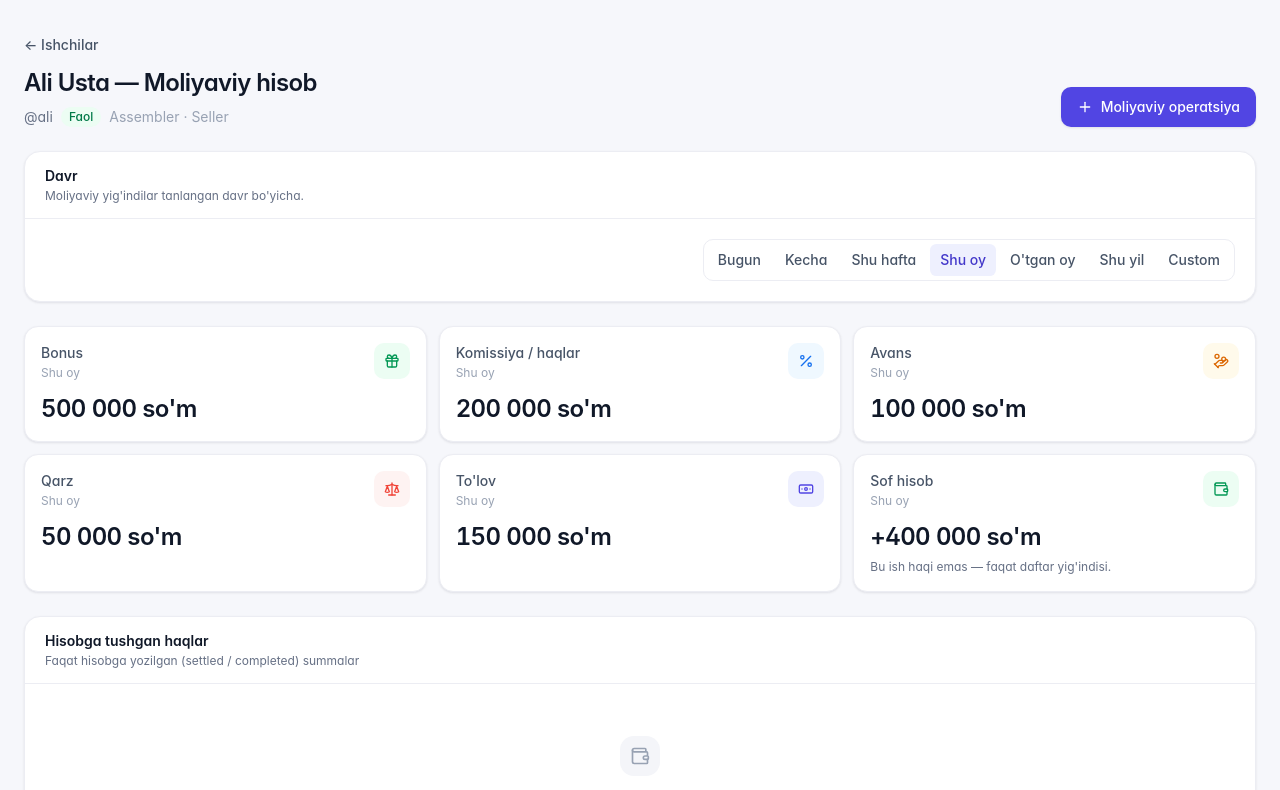
Test case: WorkerFinancesPage › rejects negative amount
The width and height of the screenshot is (1280, 790).
Click the button "Moliyaviy operatsiya".
click(1158, 107)  # box x1=1061 y1=87 x2=1256 y2=127
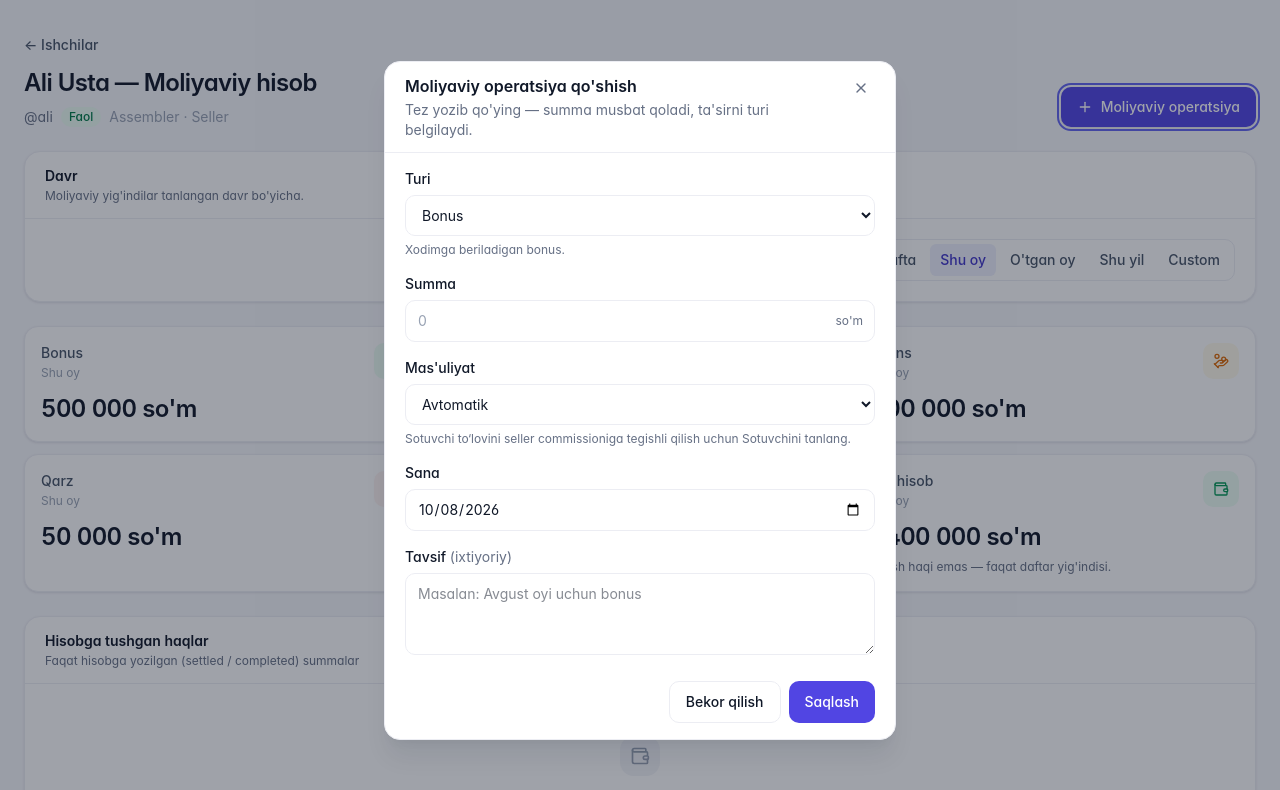
Type "-500" into the field labelled "Summa".
click(640, 320); type("-500")  # box x1=405 y1=300 x2=875 y2=342
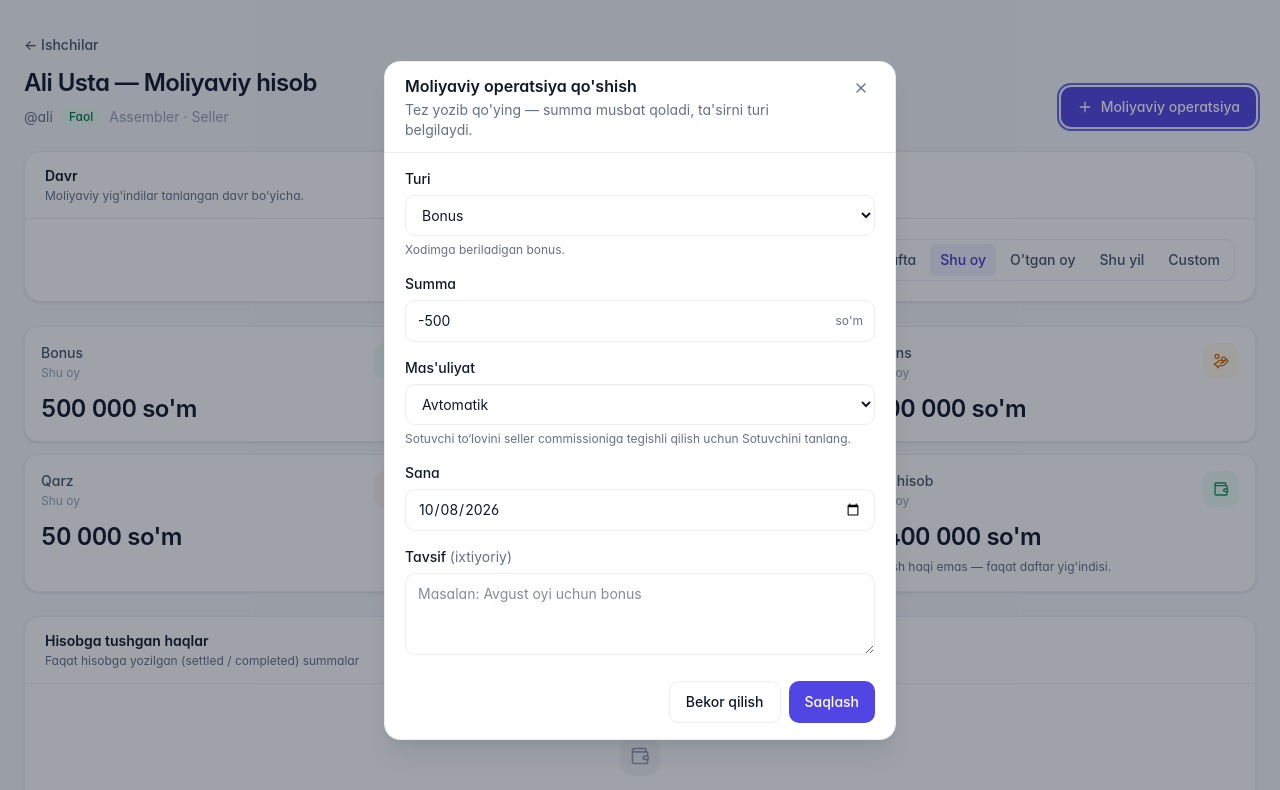
Click the button "Saqlash".
click(832, 702)  # box x1=788 y1=680 x2=875 y2=722
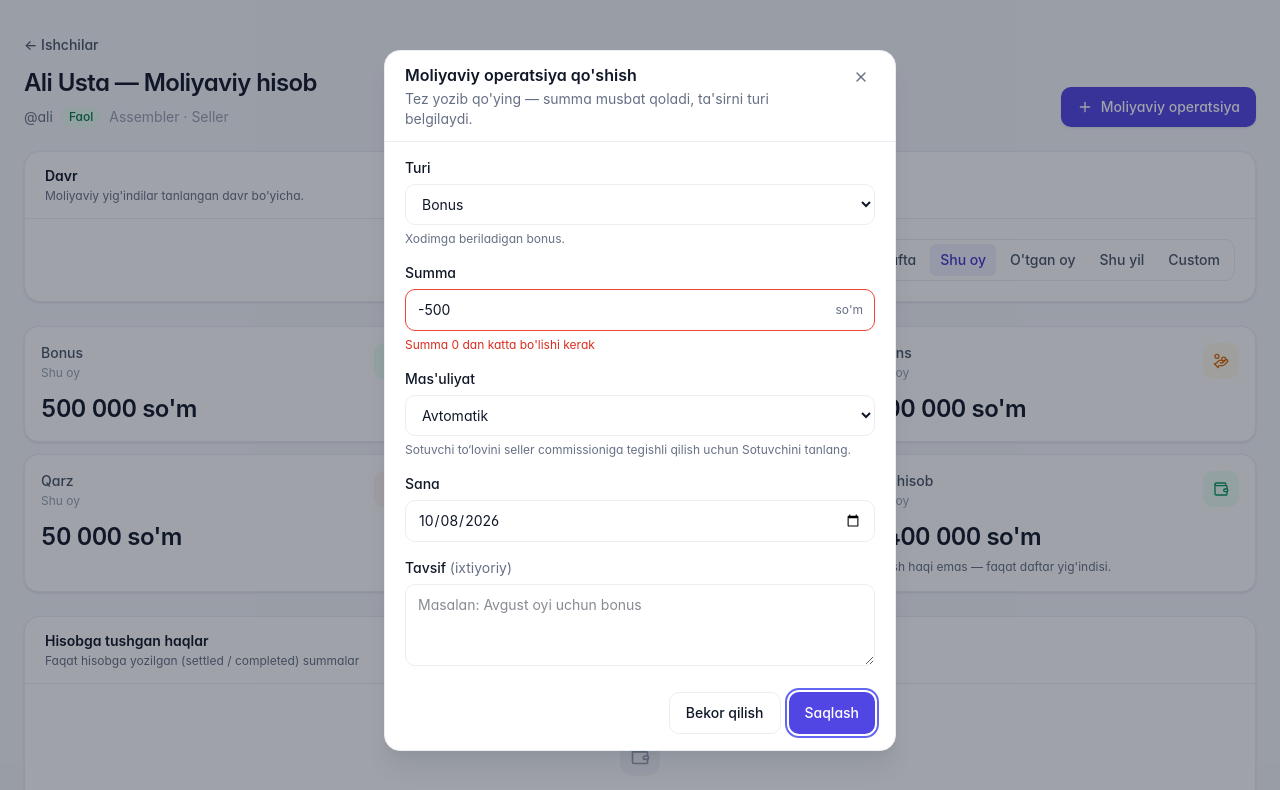
Check: the text "Summa 0 dan katta bo'lishi kerak" is shown, box x1=405 y1=336 x2=595 y2=352
